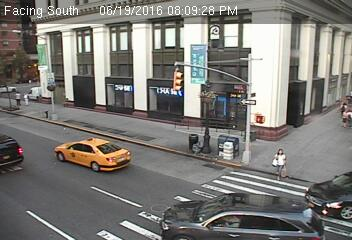neg: (30, 48, 59, 86), (298, 81, 325, 117), (16, 146, 42, 181), (172, 177, 197, 210), (127, 171, 150, 201), (68, 129, 90, 159), (90, 164, 112, 193), (36, 192, 58, 220), (188, 126, 209, 154), (169, 58, 190, 86), (273, 51, 292, 77), (92, 97, 111, 122), (311, 32, 329, 56), (29, 102, 47, 125), (106, 68, 123, 91), (245, 93, 261, 114), (221, 139, 235, 159), (210, 76, 223, 93)
pos: (269, 142, 295, 176)
